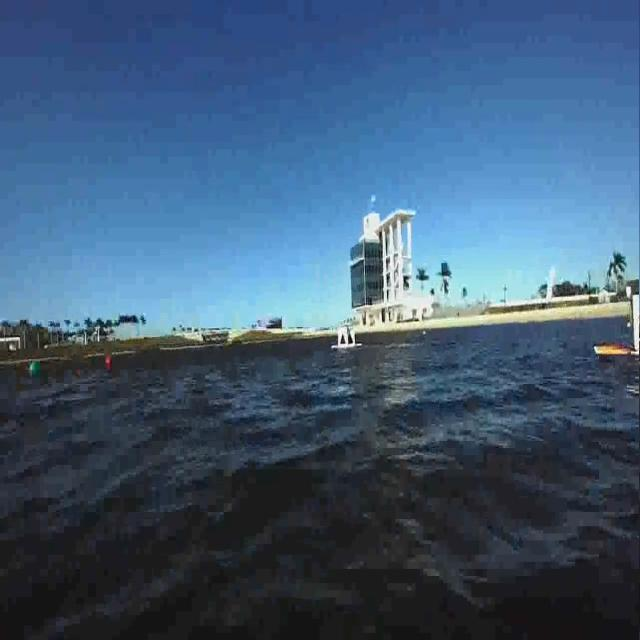green-buoy: (28, 359, 40, 382)
red-buoy: (105, 352, 112, 372)
